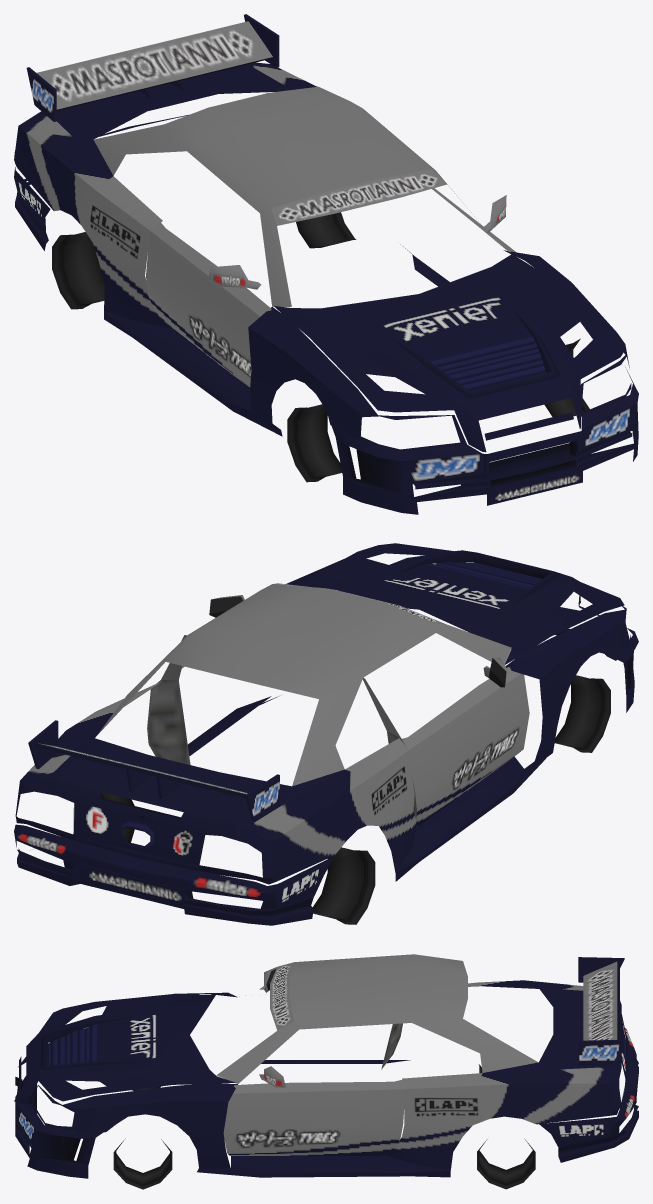
Rendered from car-MSCL_Car7.glb.
3 renders of one model, top to bottom at view 1: azimuth 30°, elevation 25°; view 2: azimuth 150°, elevation 25°; view 3: azimuth 270°, elevation 25°, orthographic. The views are drawn at different scales.
Visible parts, largest first — view 1: MSCL_Car7; view 2: MSCL_Car7; view 3: MSCL_Car7.
Part boxes in pixels (bbox=[...]): MSCL_Car7: bbox=[14, 14, 638, 514]; MSCL_Car7: bbox=[14, 543, 638, 925]; MSCL_Car7: bbox=[14, 954, 638, 1189].
Size of the model in its own units: 1.98 by 1.3 by 4.68.
19 materials, 19 textured.
